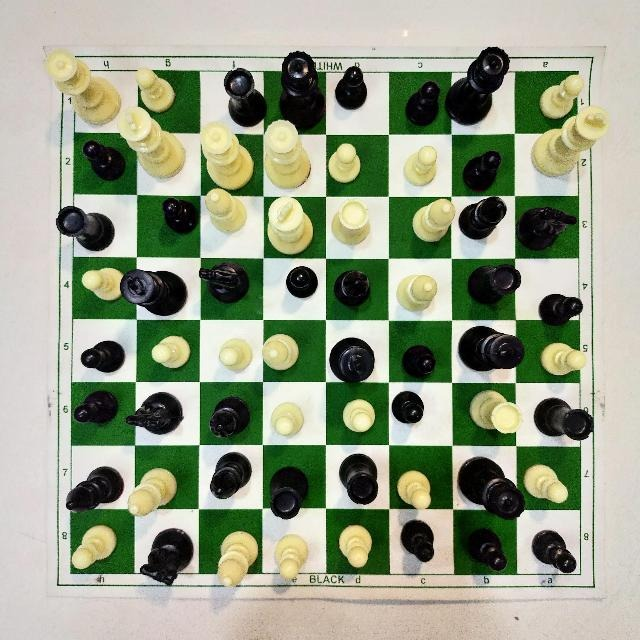black-bishop: (61, 458, 122, 512), (204, 390, 256, 445), (204, 448, 256, 502), (459, 193, 507, 243), (331, 261, 379, 311)
black-king: (453, 320, 531, 382), (118, 264, 194, 317), (327, 328, 377, 385)
black-knight: (140, 519, 198, 587), (508, 202, 577, 250), (124, 385, 185, 433), (195, 253, 245, 303)
black-pawn: (528, 527, 582, 575), (398, 75, 440, 135), (70, 335, 128, 375), (463, 528, 511, 575), (457, 146, 507, 190), (534, 285, 586, 326), (73, 383, 123, 425), (396, 517, 436, 569), (338, 59, 372, 117), (399, 336, 438, 386), (86, 136, 124, 184), (159, 191, 198, 235), (287, 261, 320, 303), (390, 388, 426, 424)
black-queen: (439, 40, 514, 126), (455, 452, 524, 521), (278, 42, 325, 125)
black-rook: (531, 392, 598, 441), (54, 204, 118, 254), (219, 66, 269, 126), (265, 460, 311, 523), (333, 451, 382, 506), (469, 259, 521, 308)
white-bishop: (211, 530, 263, 590), (124, 463, 181, 515), (406, 194, 457, 246), (205, 187, 253, 235), (259, 328, 301, 380), (394, 268, 438, 313)
white-king: (526, 99, 612, 180), (114, 106, 189, 180), (261, 192, 313, 257)
white-pawn: (64, 522, 120, 574), (535, 73, 584, 121), (136, 64, 178, 114), (334, 520, 376, 569), (336, 394, 383, 436), (395, 464, 437, 511), (537, 340, 589, 377), (521, 464, 569, 504), (79, 265, 124, 307), (274, 530, 310, 579), (403, 142, 442, 187), (153, 333, 199, 371), (322, 142, 358, 188), (272, 399, 304, 441), (219, 336, 254, 371)
white-queen: (43, 43, 121, 127), (199, 121, 257, 188), (263, 119, 315, 189)
white-rook: (466, 383, 524, 441), (328, 198, 373, 248)
